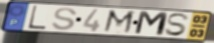4: (81, 8, 104, 34)
L: (26, 5, 48, 31)
M: (133, 10, 171, 38), (101, 9, 137, 36)
S: (50, 7, 79, 32), (163, 13, 191, 37)
